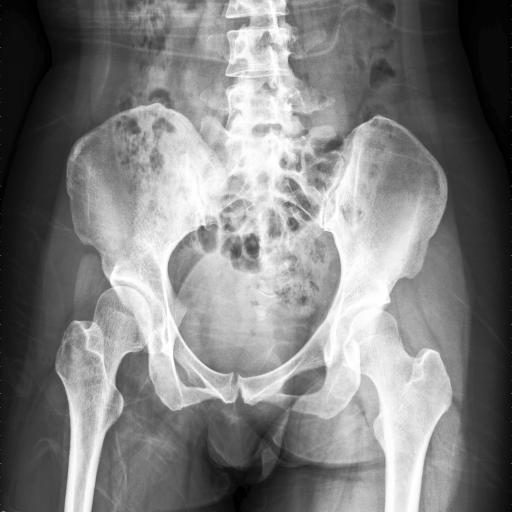normal: (343, 309, 453, 512), (55, 285, 153, 512)
